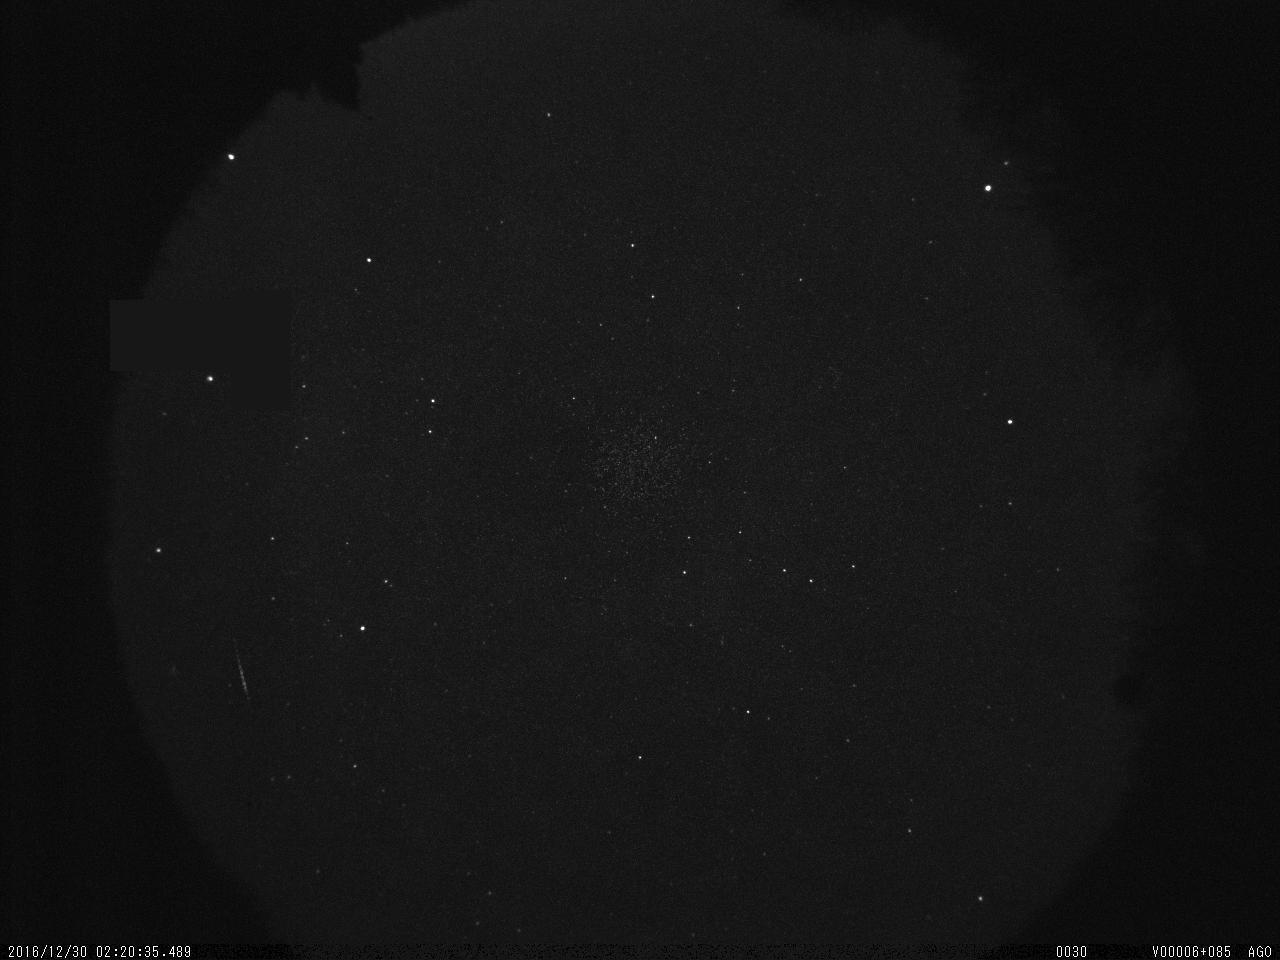Meteor: (232, 641, 252, 700)
